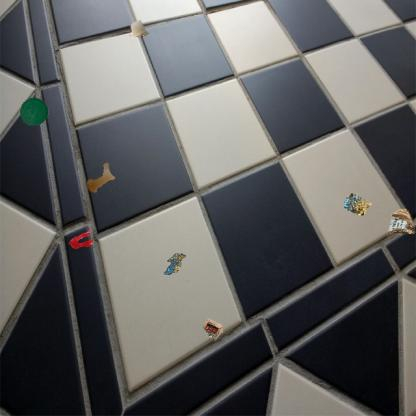dirty: (386, 208, 416, 238), (19, 96, 49, 126), (341, 190, 373, 218), (200, 316, 226, 342), (161, 251, 187, 277), (127, 18, 150, 40)
liquid: (86, 162, 116, 193), (68, 229, 94, 250)
